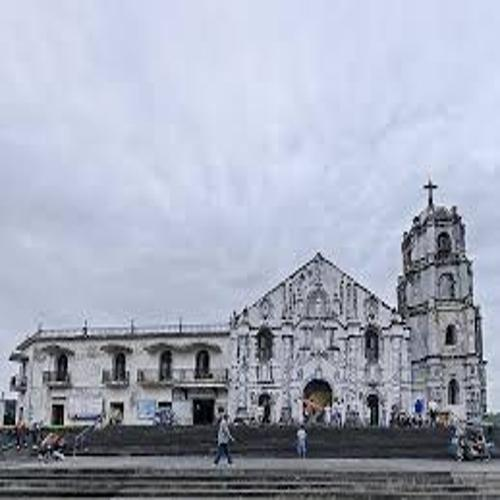Daraga Church: (225, 176, 492, 426)
